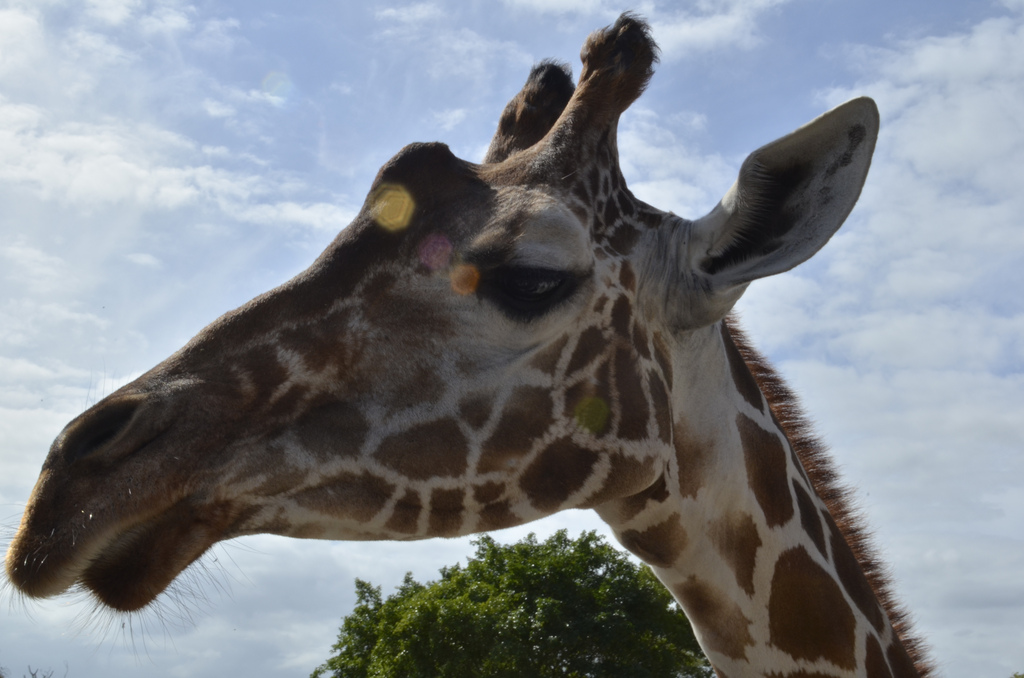giraffe: (37, 14, 862, 642)
